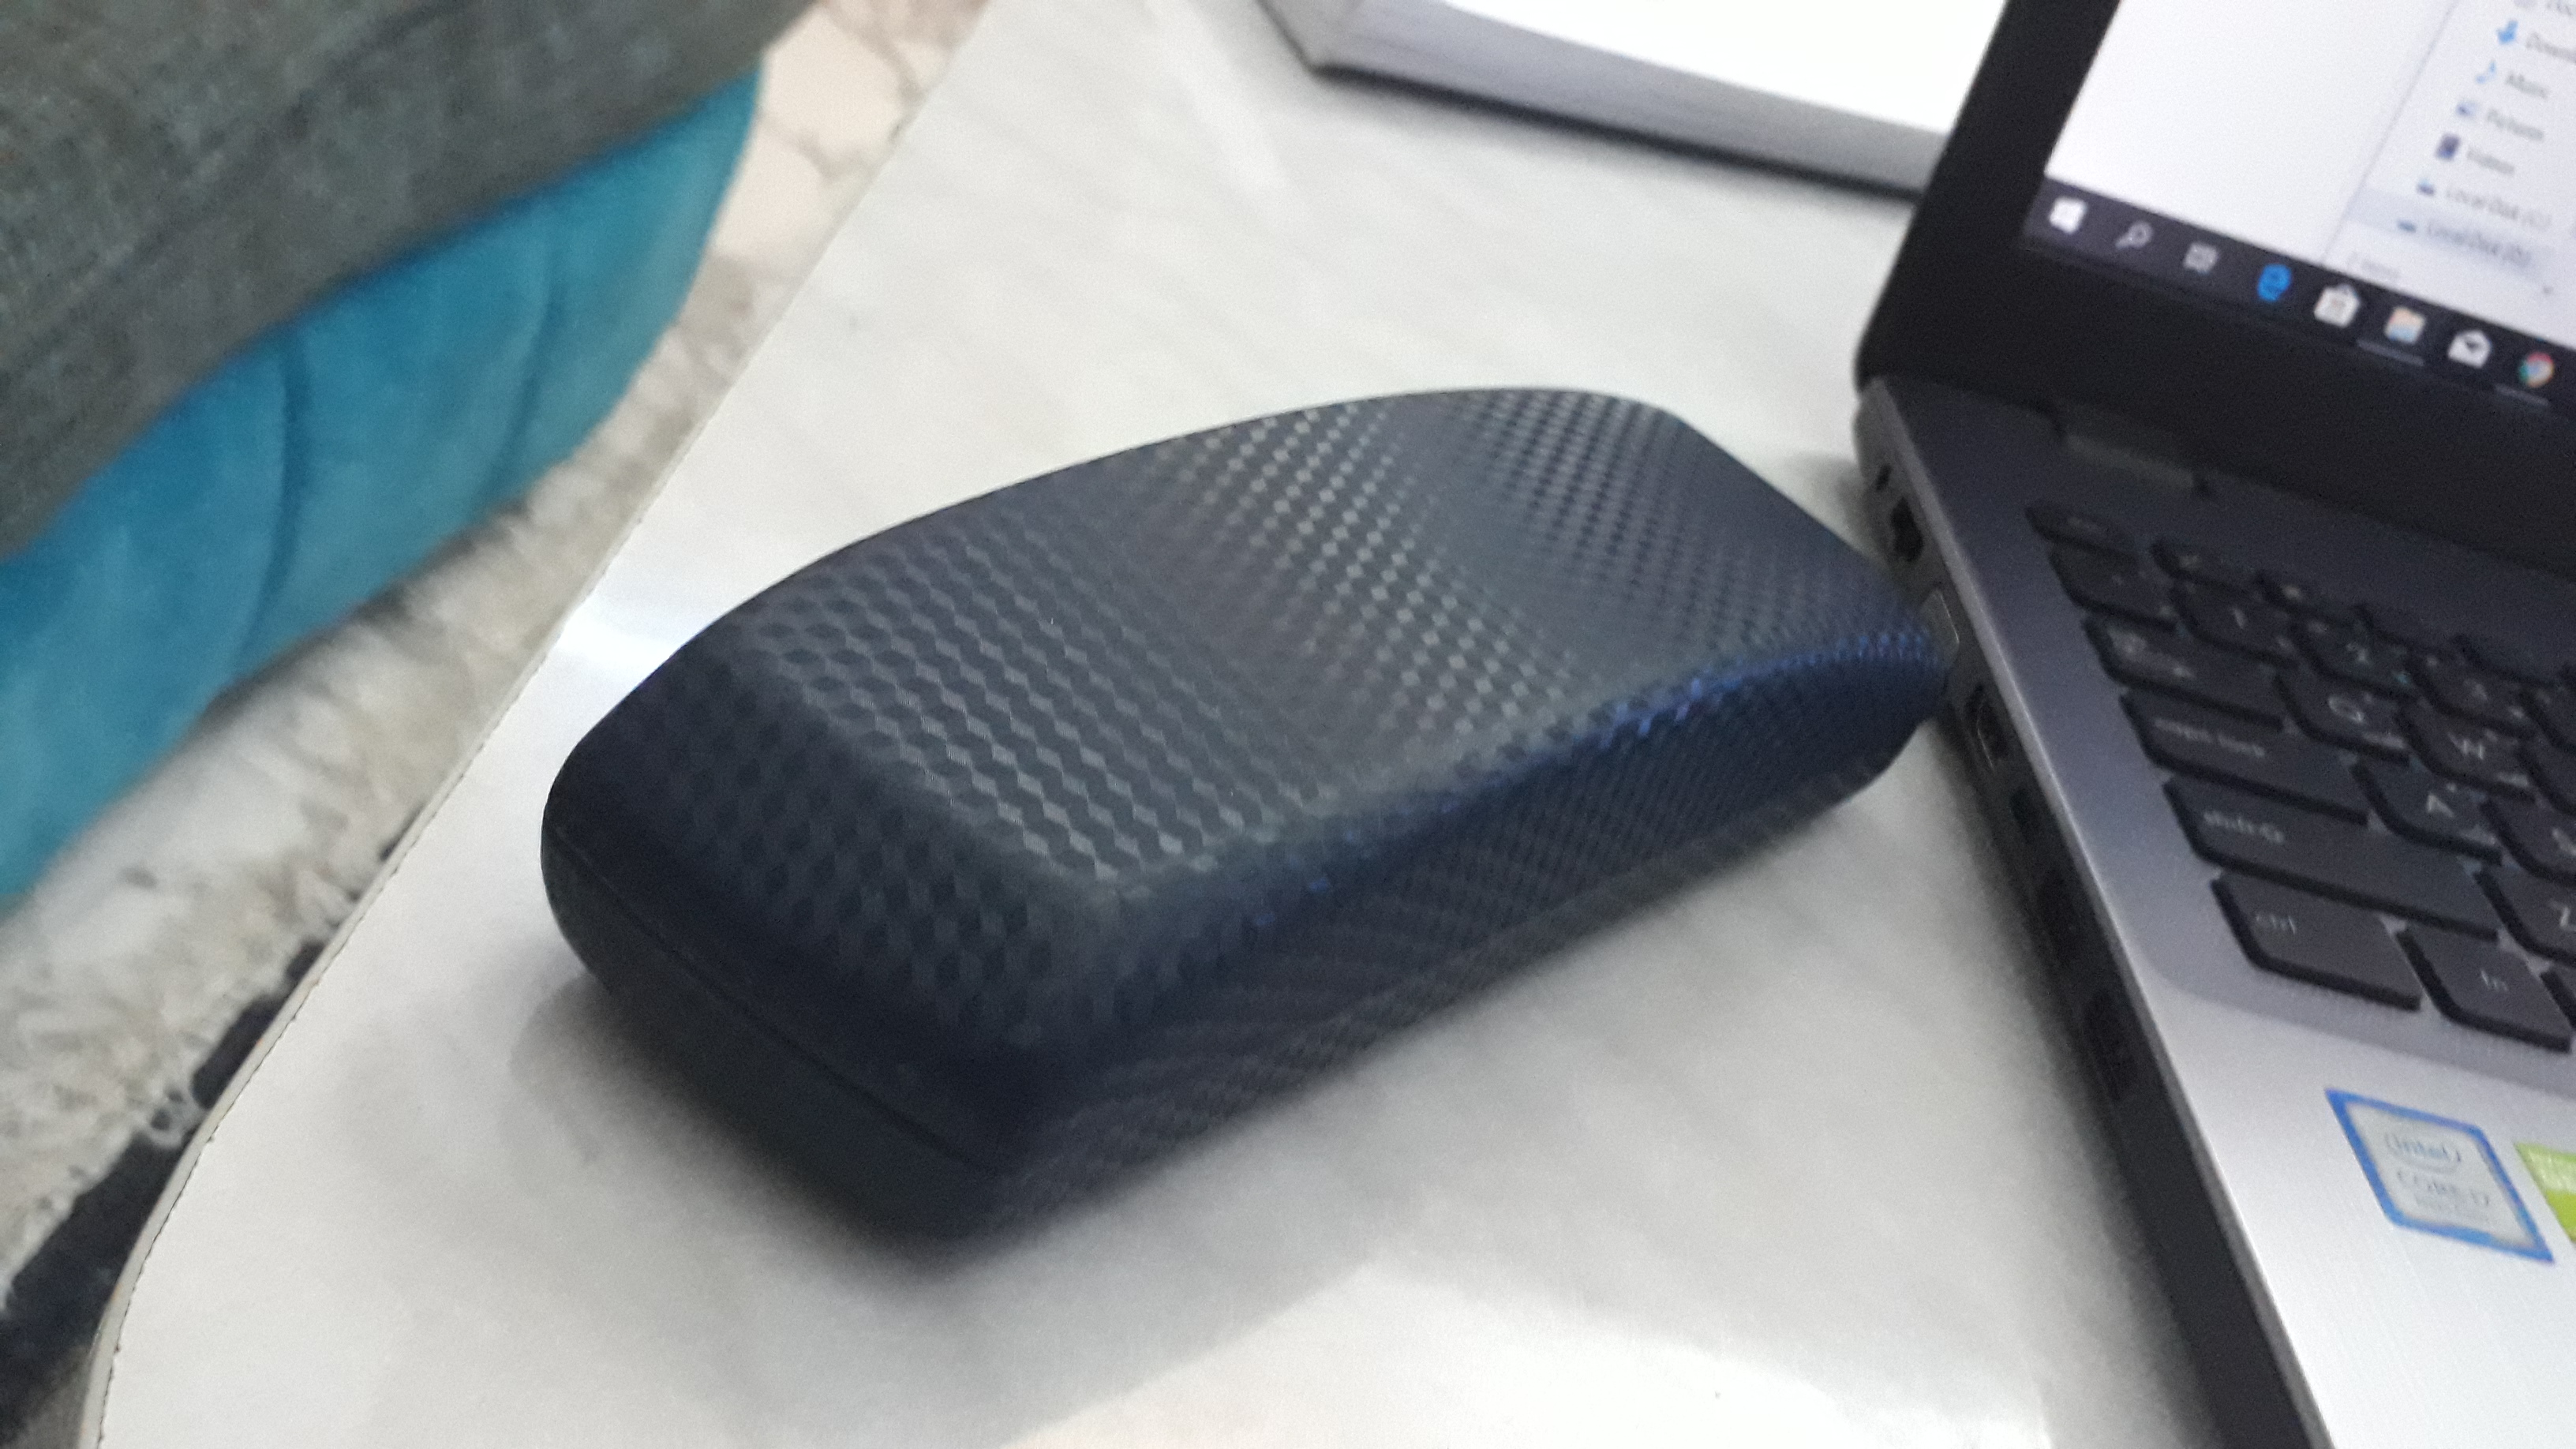nadar: (502, 280, 1983, 1272)
